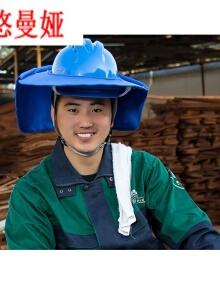helmet: (52, 39, 126, 79)
wear: (20, 162, 207, 249)
